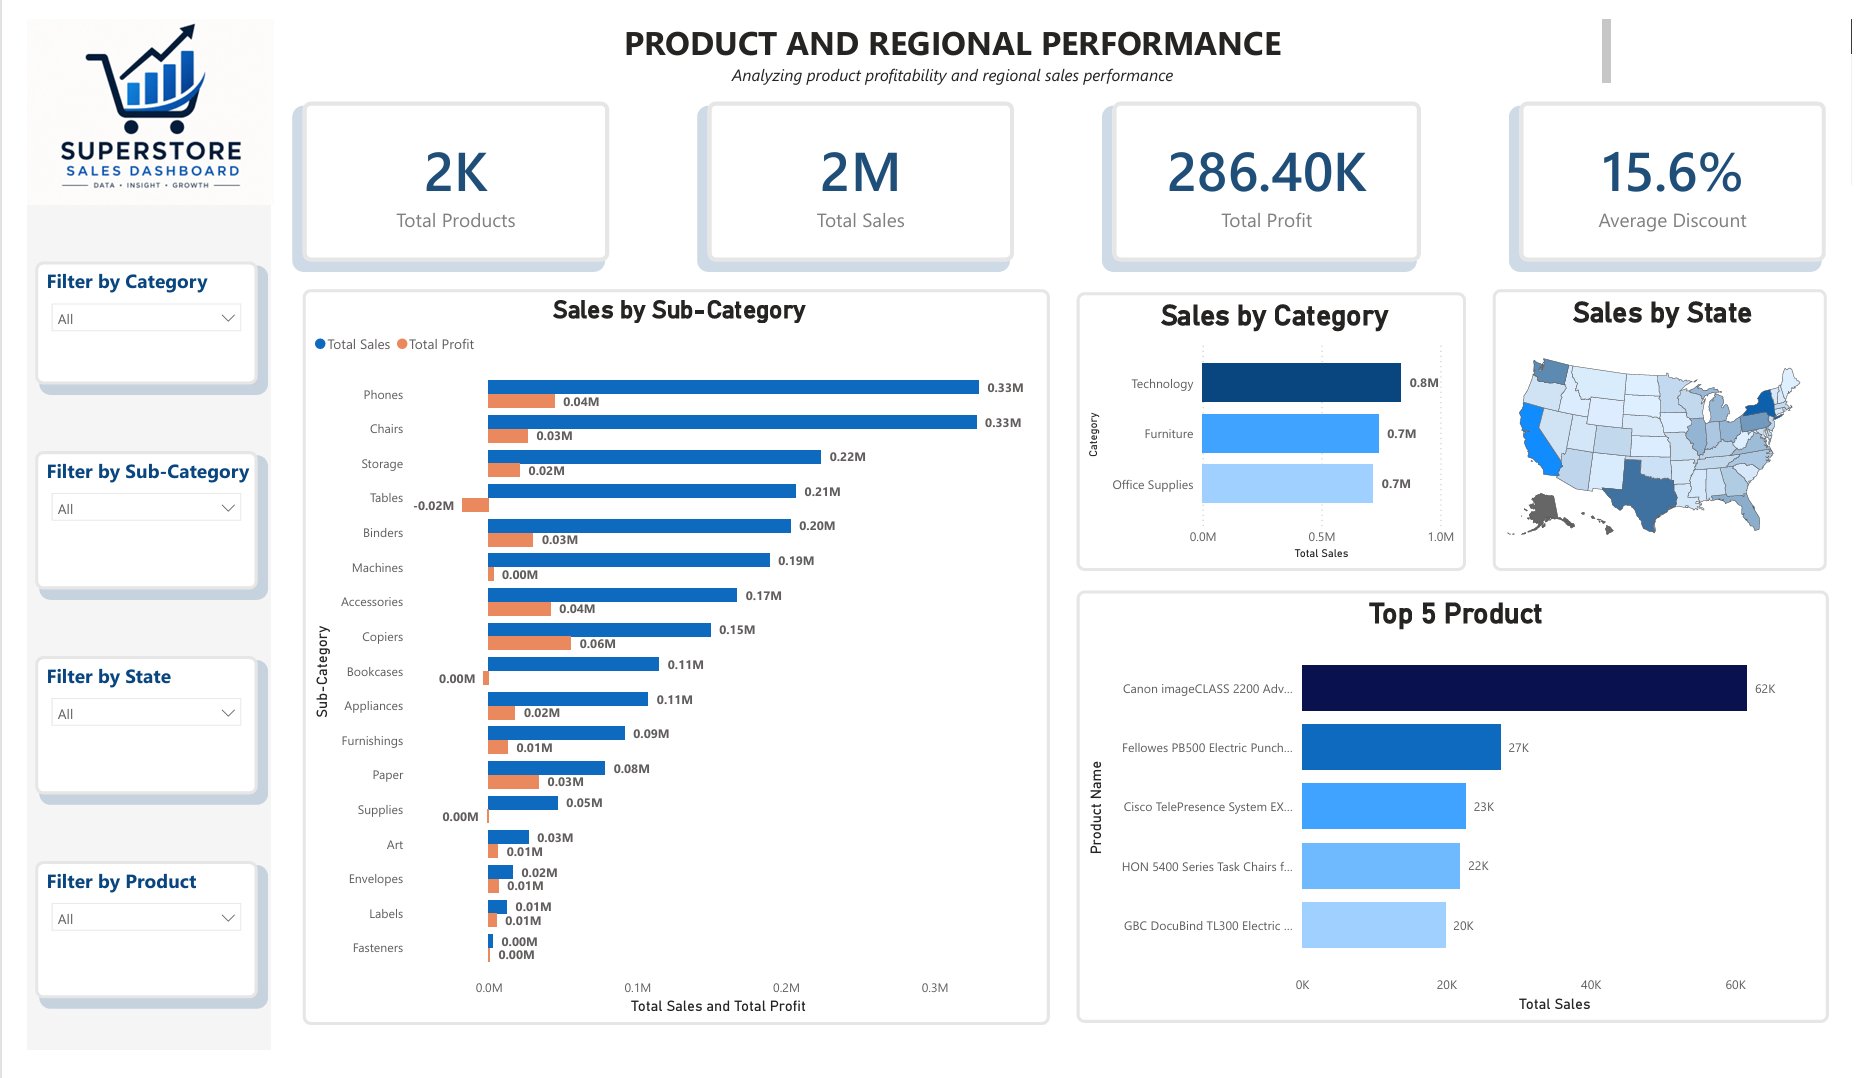

This screenshot's page, from the dashboard's own definition file:
{"tool":"powerbi","page":{"name":"Product and Regional Performance ","canvas":[1779,1007],"ordinal":1},"visuals":[{"type":"shape","box":[0,0,1780.2,1006.7],"z":0},{"type":"clusteredBarChart","title":"Top 5  Product ","fields":{"Category":["Sample - Superstore.Product Name"],"Y":["Sample - Superstore.Total Sales"]},"box":[1024.4,557.3,733.1,421.2],"z":1000},{"type":"shapeMap","title":"Sales by State","fields":{"Category":["Sample - Superstore.State"],"Value":["Sample - Superstore.Total Sales"]},"box":[1429.8,262.8,326.2,275.5],"z":2000},{"type":"cardVisual","fields":{"Data":["Sample - Superstore.Total Profits"]},"box":[568.2,484,298.8,147.3],"z":3000},{"type":"clusteredBarChart","title":"Sales by Sub-Category","fields":{"Category":["Sample - Superstore.Sub-Category"],"Y":["Sample - Superstore.Total Sales","Sample - Superstore.Total Profit"]},"box":[269.4,263.1,728.2,717.6],"z":4000},{"type":"textbox","box":[269.4,0,1275.3,63.1],"z":5000},{"type":"clusteredBarChart","title":" Sales by Category","fields":{"Category":["Sample - Superstore.Category","Sample - Superstore.Sub-Category"],"Y":["Sample - Superstore.Total Sales"]},"box":[1024.4,266,380,272.3],"z":6000},{"type":"shape","box":[0,0,237.8,1006],"z":7000},{"type":"slicer","title":"Filter by State","fields":{"Values":["Sample - Superstore.Category","Sample - Superstore.State"]},"box":[7.9,620.8,216.8,134.7],"z":8000},{"type":"slicer","title":"Filter by Sub-Category","fields":{"Values":["Sample - Superstore.Sub-Category"]},"box":[7.9,420.9,216.8,134.7],"z":9000},{"type":"slicer","title":"Filter by Product","fields":{"Values":["Sample - Superstore.Product Name"]},"box":[7.9,820.8,216.8,134.7],"z":10000},{"type":"slicer","title":"Filter by Category","fields":{"Values":["Sample - Superstore.Category"]},"box":[7.9,235.7,216.8,120],"z":11000},{"type":"cardVisual","fields":{"Data":["Sample - Superstore.Total Products Sold"]},"box":[269.4,80,298.8,155.7],"z":12000},{"type":"cardVisual","fields":{"Data":["Sample - Superstore.Total Sales"]},"box":[664.3,80,298.8,155.7],"z":13000},{"type":"cardVisual","fields":{"Data":["Sample - Superstore.Total Profit"]},"box":[1059.3,80,300.9,155.7],"z":14000},{"type":"cardVisual","fields":{"Data":["Sample - Superstore.Average Discount"]},"box":[1456.3,80,298.8,155.7],"z":15000},{"type":"image","box":[0,0,239.9,181],"z":16000}]}

Visuals, with their boxes in screenshot pixels (x1, y1, x2, y2), scaled from the page's 1779x1007 canvas onto the 1867x1078 screenshot:
shape: {"left": 0, "top": 0, "right": 1866, "bottom": 1077}
"Top 5  Product " clusteredBarChart: {"left": 1075, "top": 597, "right": 1844, "bottom": 1047}
"Sales by State" shapeMap: {"left": 1501, "top": 281, "right": 1843, "bottom": 576}
cardVisual - Sample - Superstore.Total Profits: {"left": 596, "top": 518, "right": 910, "bottom": 676}
"Sales by Sub-Category" clusteredBarChart: {"left": 283, "top": 282, "right": 1047, "bottom": 1050}
textbox: {"left": 283, "top": 0, "right": 1621, "bottom": 68}
" Sales by Category" clusteredBarChart: {"left": 1075, "top": 285, "right": 1474, "bottom": 576}
shape: {"left": 0, "top": 0, "right": 250, "bottom": 1077}
"Filter by State" slicer: {"left": 8, "top": 665, "right": 236, "bottom": 809}
"Filter by Sub-Category" slicer: {"left": 8, "top": 451, "right": 236, "bottom": 595}
"Filter by Product" slicer: {"left": 8, "top": 879, "right": 236, "bottom": 1023}
"Filter by Category" slicer: {"left": 8, "top": 252, "right": 236, "bottom": 381}
cardVisual - Sample - Superstore.Total Products Sold: {"left": 283, "top": 86, "right": 596, "bottom": 252}
cardVisual - Sample - Superstore.Total Sales: {"left": 697, "top": 86, "right": 1011, "bottom": 252}
cardVisual - Sample - Superstore.Total Profit: {"left": 1112, "top": 86, "right": 1427, "bottom": 252}
cardVisual - Sample - Superstore.Average Discount: {"left": 1528, "top": 86, "right": 1842, "bottom": 252}
image: {"left": 0, "top": 0, "right": 252, "bottom": 194}
